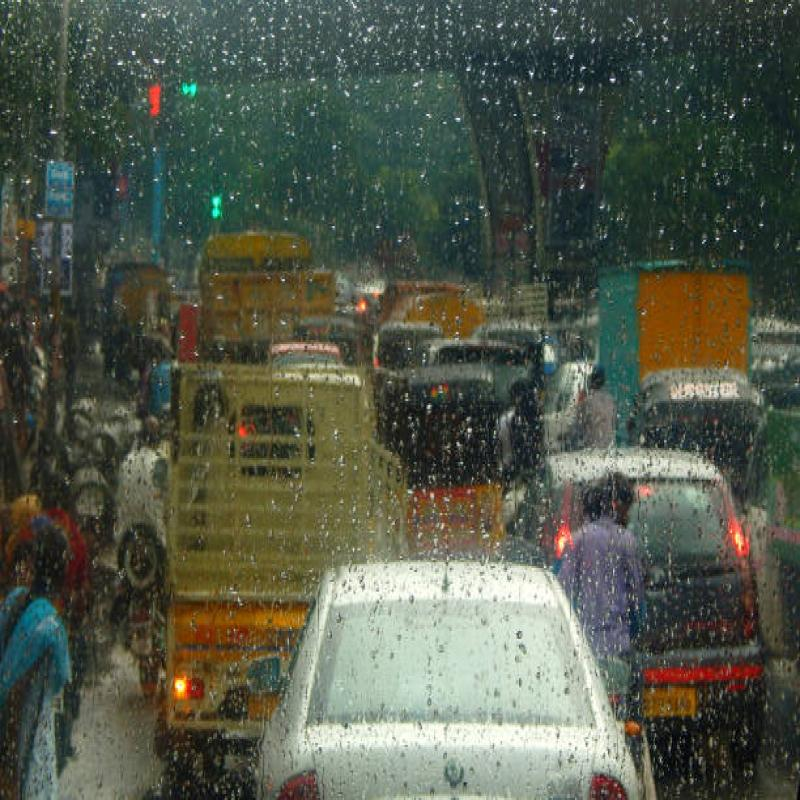car: (251, 524, 641, 800)
